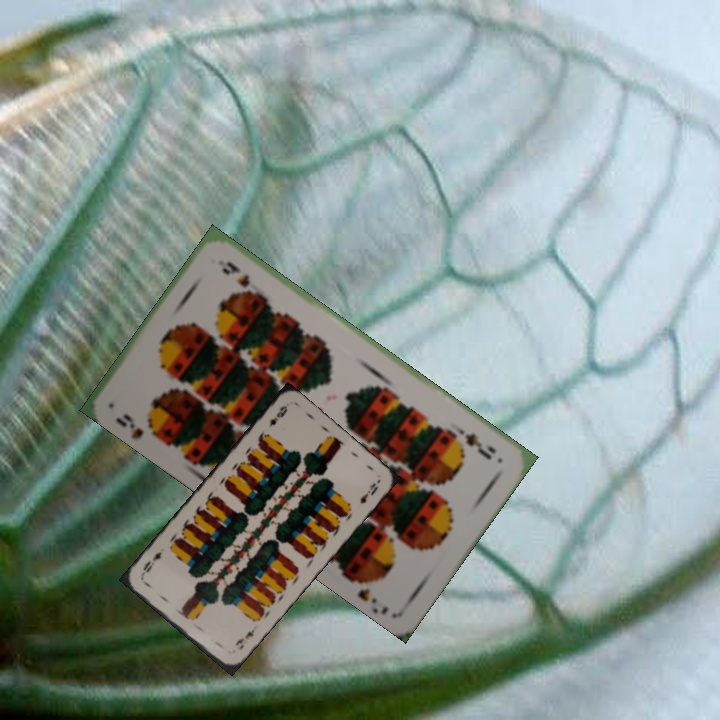E9: (264, 401, 290, 430), (231, 625, 257, 652)
S9: (111, 409, 163, 442), (460, 428, 499, 462)
